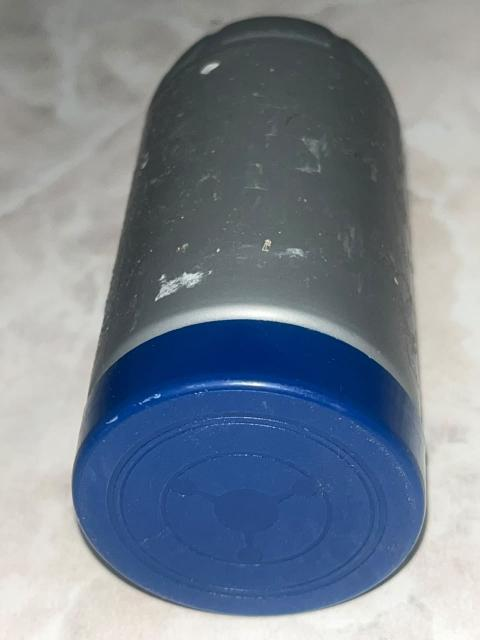HDPE: (30, 2, 468, 637)
